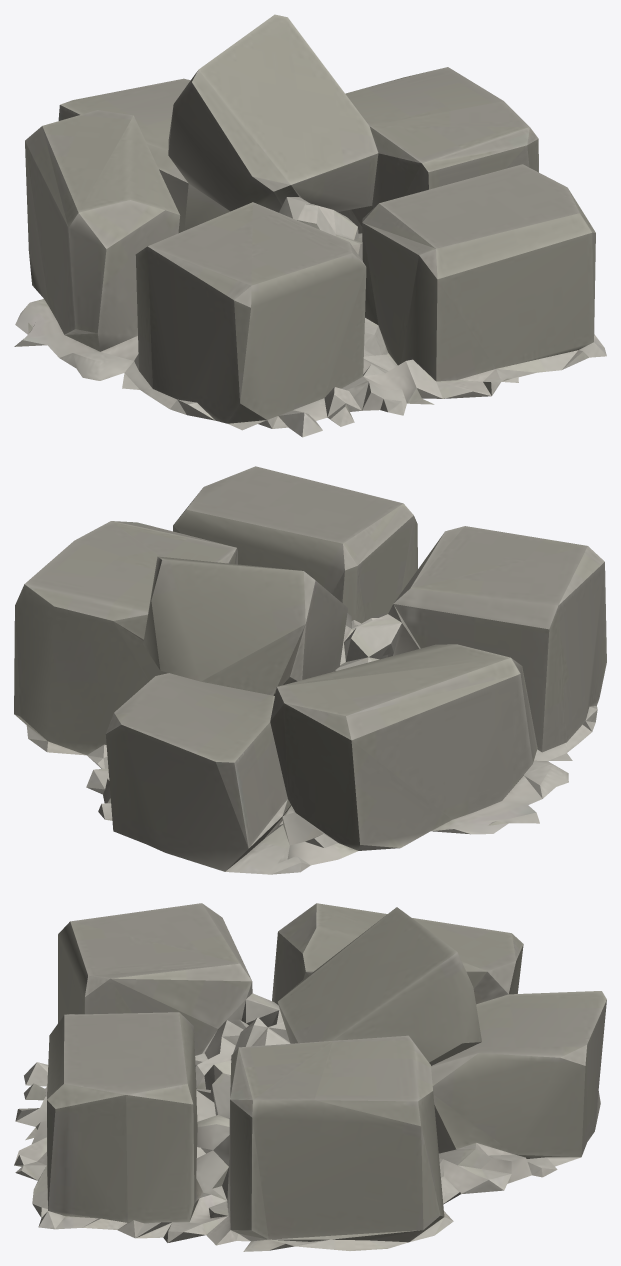
File: masonry_rubble.glb
The picture shows the model from 3 angles, top to bottom: view 1: azimuth 30°, elevation 25°; view 2: azimuth 150°, elevation 25°; view 3: azimuth 270°, elevation 25°; orthographic projection. The views are drawn at different scales.
Visible parts, largest first — view 1: Mesh_0; view 2: Mesh_0; view 3: Mesh_0.
Boxes of the visible parts, left/top/right/bottom form: Mesh_0: left=14, top=14, right=606, bottom=437; Mesh_0: left=14, top=466, right=606, bottom=874; Mesh_0: left=14, top=903, right=606, bottom=1251.
Size of the model in its own units: 1.78 by 0.7717 by 1.89.
1 material, 1 textured.
